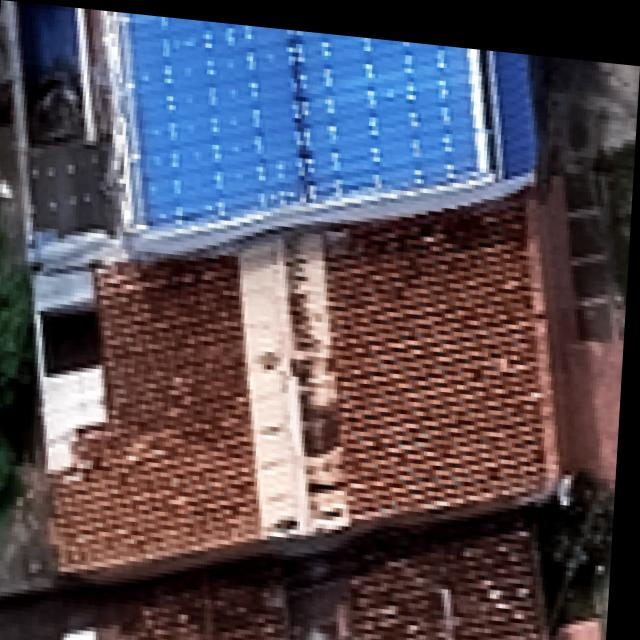Batiment: (58, 179, 563, 573), (136, 509, 552, 640)
